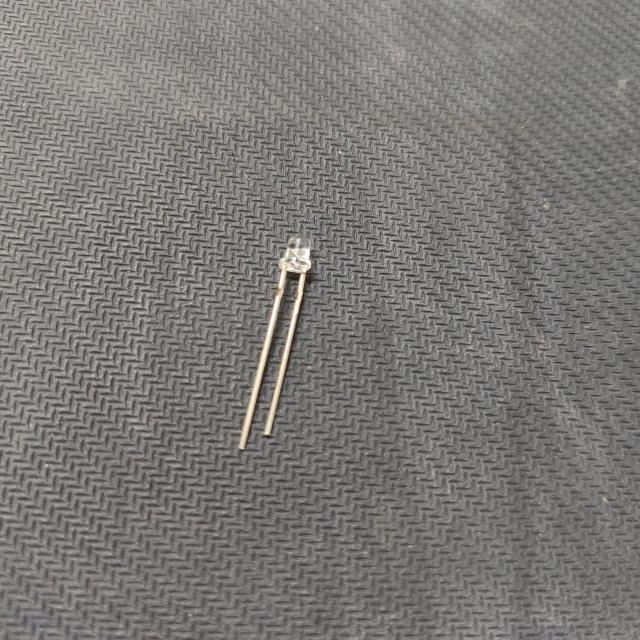led: (219, 224, 329, 461)
